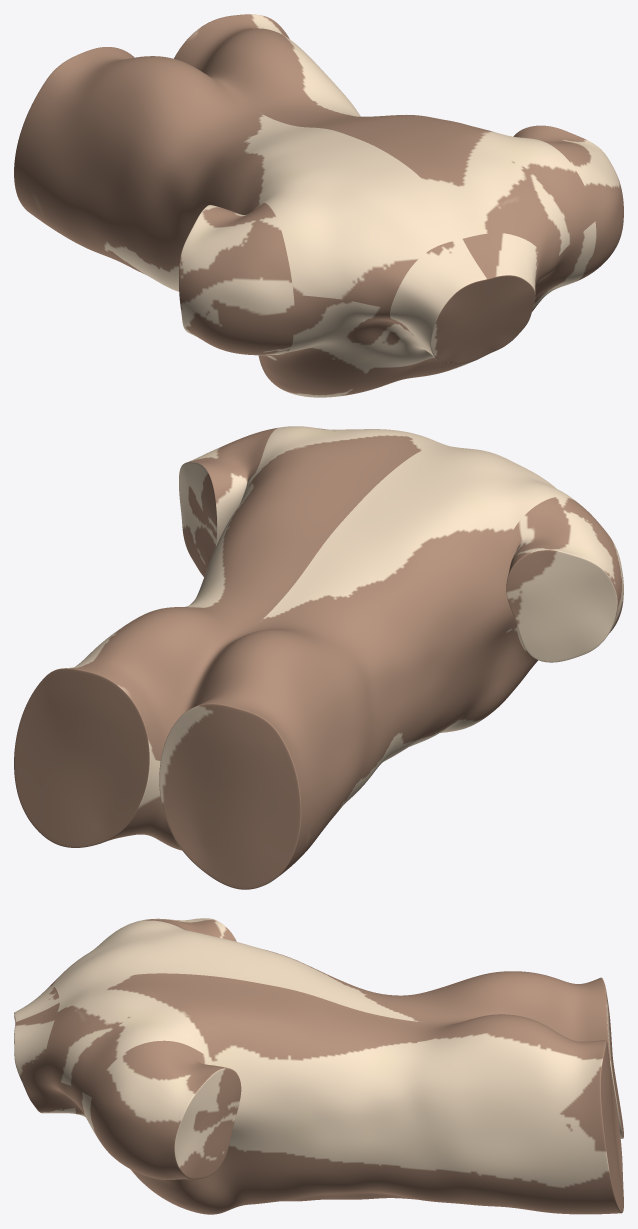
File: 11541_maletorso_V1.obj
3 views of the same model, one above another, from view 1: azimuth 30°, elevation 25°; view 2: azimuth 150°, elevation 25°; view 3: azimuth 270°, elevation 25° (orthographic). The views are drawn at different scales.
Visible parts, largest first — view 1: male_torso; view 2: male_torso; view 3: male_torso.
Boxes of the visible parts, bbox=[...] form: male_torso: bbox=[14, 14, 623, 397]; male_torso: bbox=[14, 426, 623, 889]; male_torso: bbox=[14, 918, 623, 1214].
Bounding box in the file's own units: 58.82 × 31.15 × 78.8.
